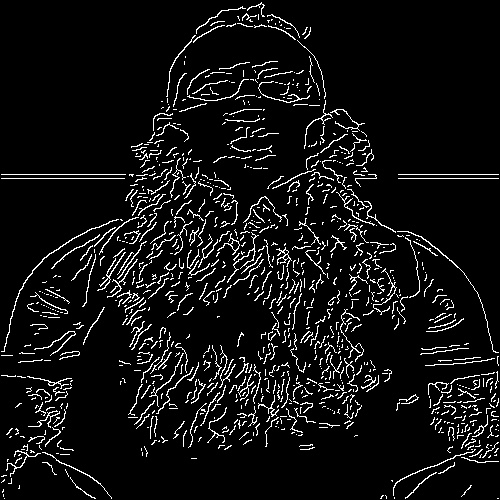mask: (181, 94, 316, 185)
